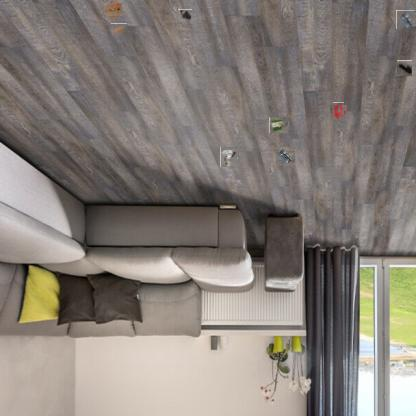dirty: (275, 147, 295, 166), (396, 10, 415, 29), (219, 148, 238, 167), (270, 117, 288, 134), (105, 1, 121, 17), (397, 60, 412, 76), (111, 23, 127, 36)
liquid: (331, 104, 346, 118), (178, 9, 192, 20)
